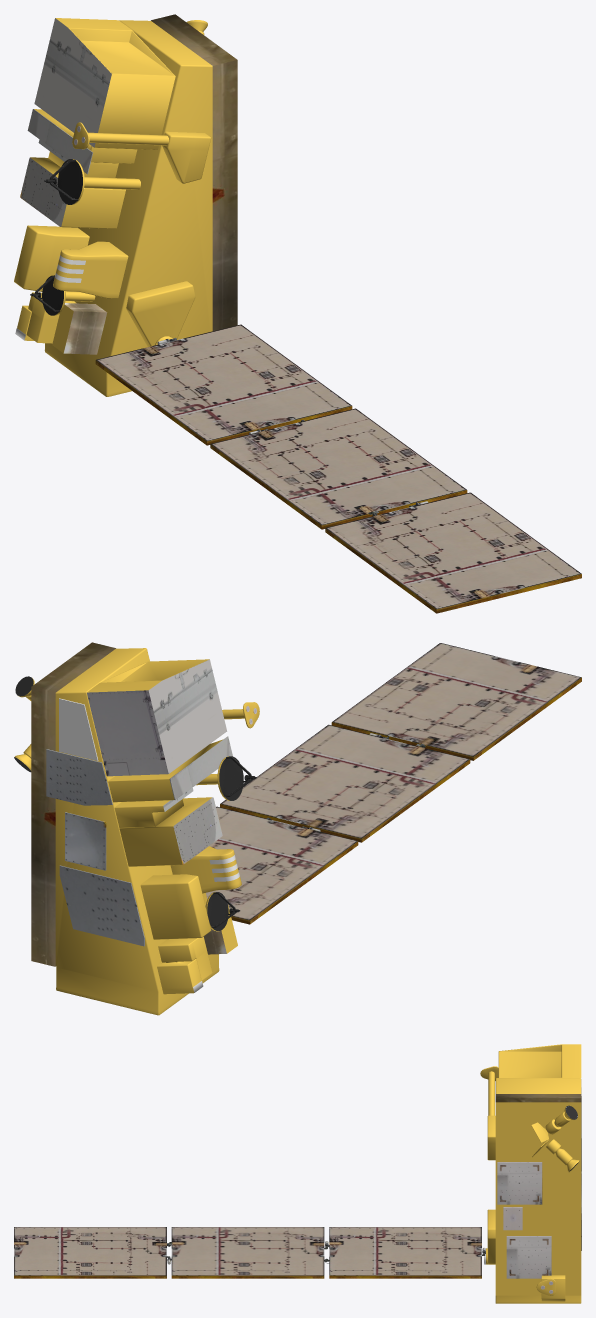
The model's file is NPP.gltf.
3 views of the same model, one above another, from view 1: azimuth 30°, elevation 25°; view 2: azimuth 150°, elevation 25°; view 3: azimuth 270°, elevation 25° (orthographic). The views are drawn at different scales.
Visible parts, largest first — view 1: tex_01, foil_gold, tex_02, AO_01; view 2: tex_01, foil_gold, tex_02, AO_01, foil_silver; view 3: tex_01, foil_gold, tex_02.
Boxes of the visible parts, x1,y1,x2,y2 form: tex_01: (74,126,581,613); foil_gold: (14,18,212,396); tex_02: (20,14,237,354); AO_01: (30,159,82,315); tex_01: (46,643,581,946); foil_gold: (15,648,259,1015); tex_02: (31,642,232,966); AO_01: (14,676,256,930); foil_silver: (193,855,239,992); tex_01: (14,1133,581,1293); foil_gold: (480,1044,581,1303); tex_02: (495,1087,581,1133).
Bounding box in the file's own units: 2.57 × 4.19 × 8.96.
6 materials, 4 textured.
